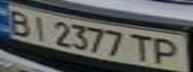2: (48, 18, 72, 48)
3: (66, 22, 90, 52)
7: (103, 27, 130, 58), (84, 25, 106, 55)
B: (3, 7, 33, 37)
I: (24, 12, 54, 42)
P: (148, 35, 187, 66)
T: (127, 32, 157, 63)
